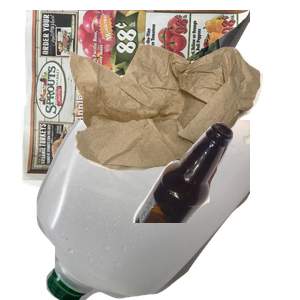glass: (130, 120, 300, 300)
paper: (18, 10, 258, 190)
plastic: (34, 120, 274, 300)
trash: (67, 42, 300, 206)
